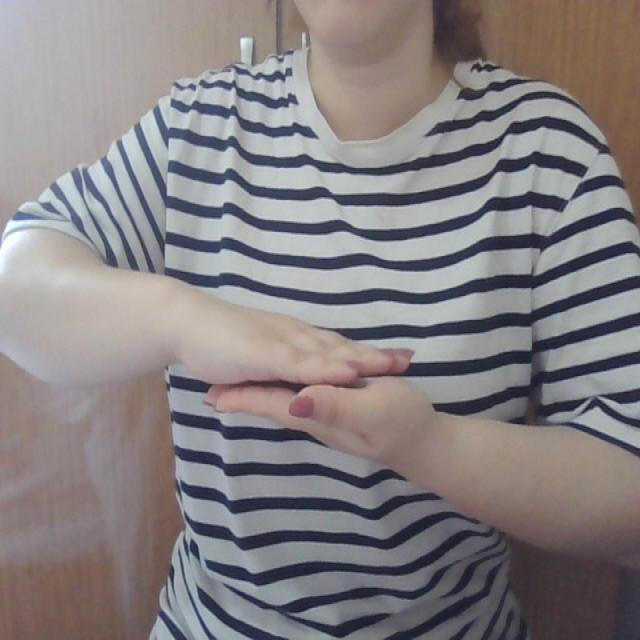Arkadas: (164, 318, 489, 490)
